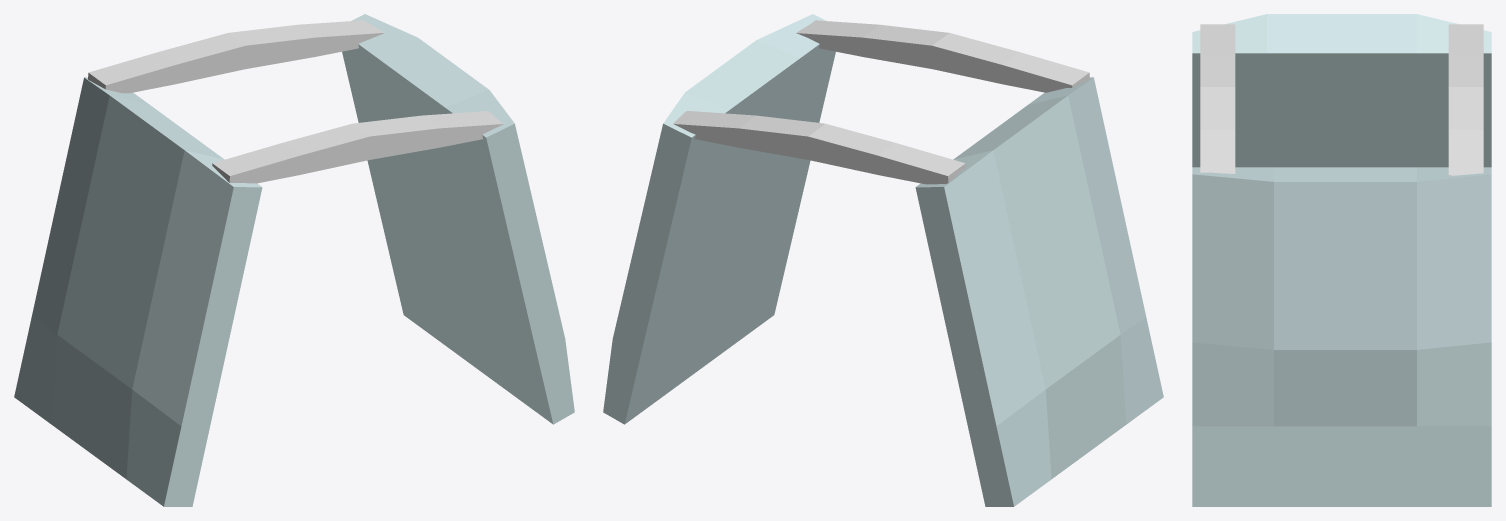
The model's file is armor.gltf.
3 renders of one model, left to right at view 1: azimuth 30°, elevation 25°; view 2: azimuth 150°, elevation 25°; view 3: azimuth 270°, elevation 25°, orthographic.
Parts seen in each view (by area): view 1: Cube, Cube.001, Cube.004, Cube.003; view 2: Cube, Cube.001, Cube.004, Cube.003; view 3: Cube.001, Cube, Cube.004, Cube.003.
Part boxes in pixels (bbox=[...]): Cube: bbox=[14, 77, 262, 506]; Cube.001: bbox=[342, 14, 574, 424]; Cube.004: bbox=[88, 20, 383, 93]; Cube.003: bbox=[212, 111, 503, 183]; Cube: bbox=[915, 77, 1163, 506]; Cube.001: bbox=[603, 14, 835, 424]; Cube.004: bbox=[673, 111, 965, 184]; Cube.003: bbox=[796, 20, 1089, 92]; Cube.001: bbox=[1192, 167, 1491, 506]; Cube: bbox=[1192, 14, 1491, 167]; Cube.004: bbox=[1448, 24, 1483, 175]; Cube.003: bbox=[1200, 24, 1235, 173].
Bounding box in the file's own units: 2.13 × 1.63 × 1.35.
